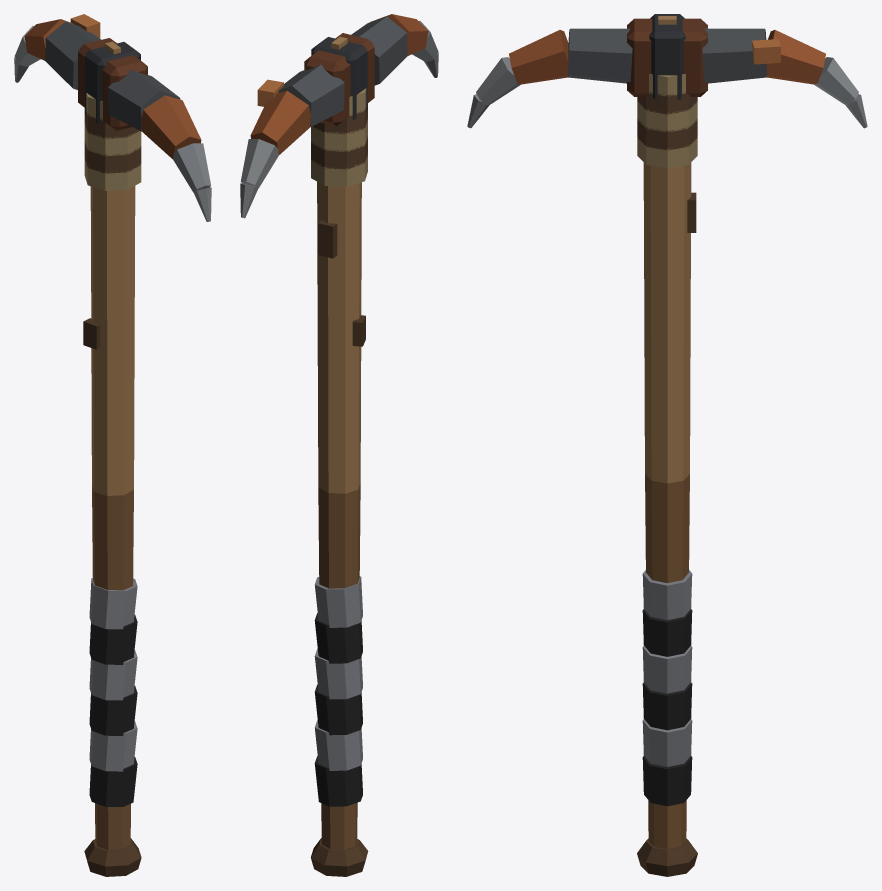
File: melee_iron_pickaxe.fbx
The picture shows the model from 3 angles, left to right: view 1: azimuth 30°, elevation 25°; view 2: azimuth 150°, elevation 25°; view 3: azimuth 270°, elevation 25°; orthographic projection. The views are drawn at different scales.
Parts seen in each view (by area): view 1: melee_iron_pickaxe; view 2: melee_iron_pickaxe; view 3: melee_iron_pickaxe.
Boxes of the visible parts, bbox=[...] form: melee_iron_pickaxe: bbox=[14, 14, 211, 876]; melee_iron_pickaxe: bbox=[240, 14, 438, 876]; melee_iron_pickaxe: bbox=[467, 14, 867, 876].
Size of the model in its own units: 0.074 by 1.04 by 0.4446.
